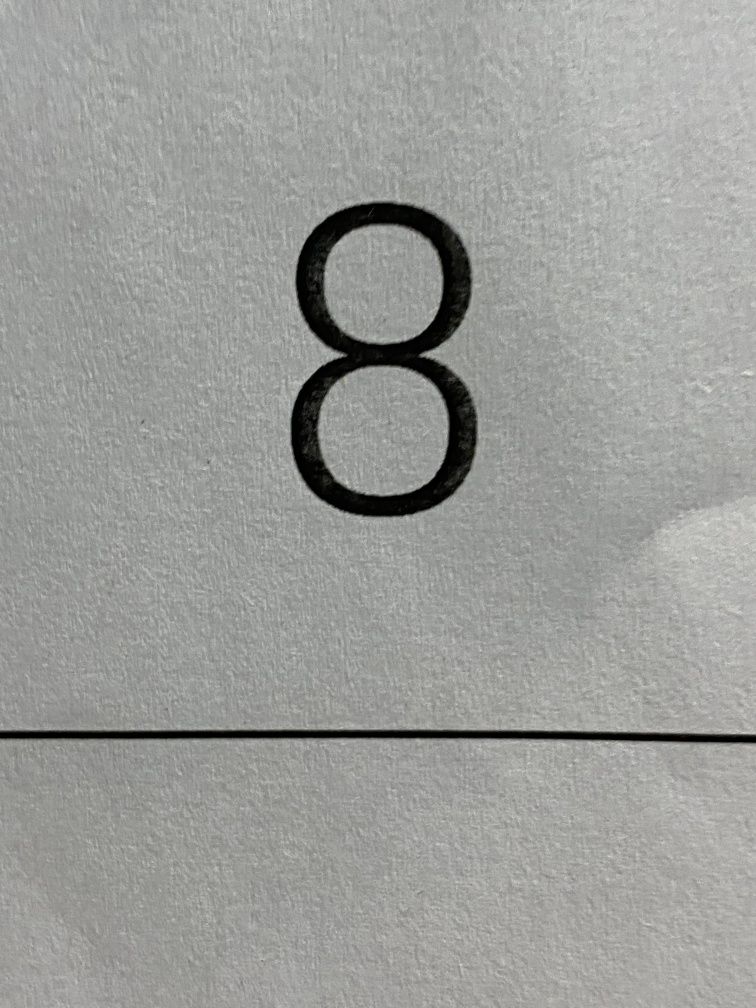eight: (217, 156, 548, 571)
